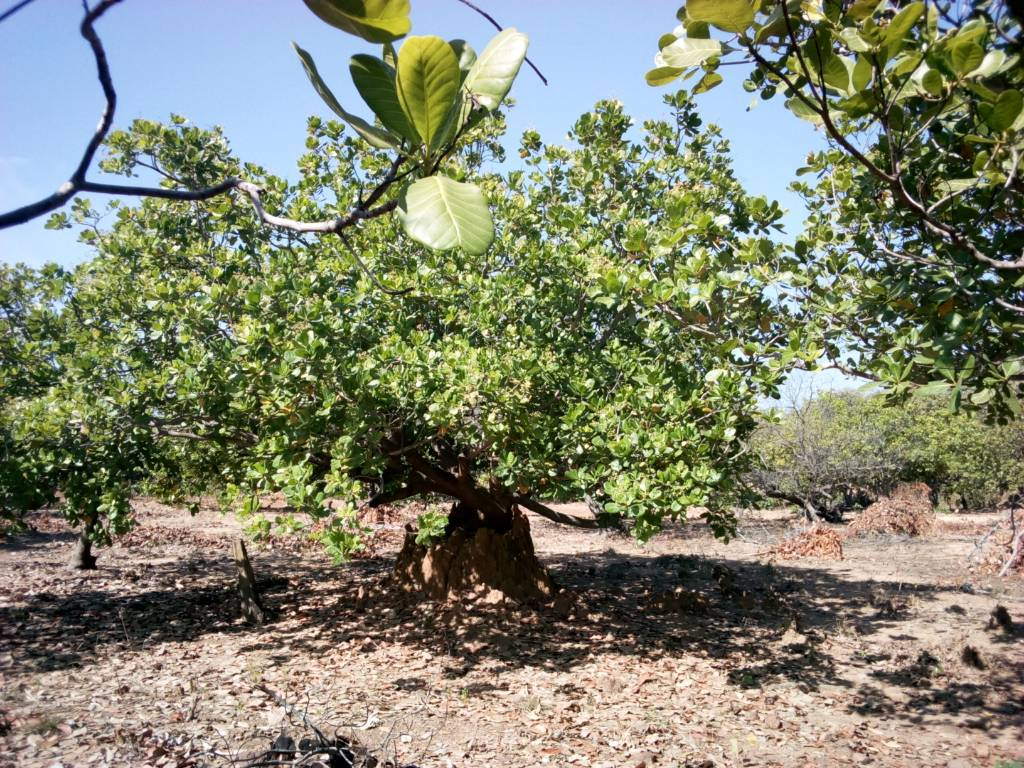Termites: (400, 529, 536, 601)
